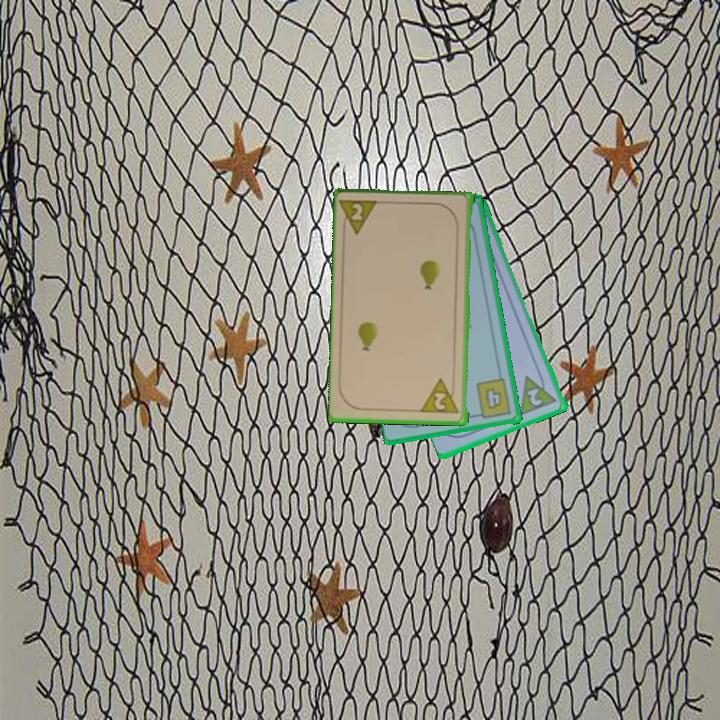2p: (517, 368, 560, 418), (338, 196, 383, 238), (419, 376, 462, 417)
4b: (471, 376, 514, 422)
